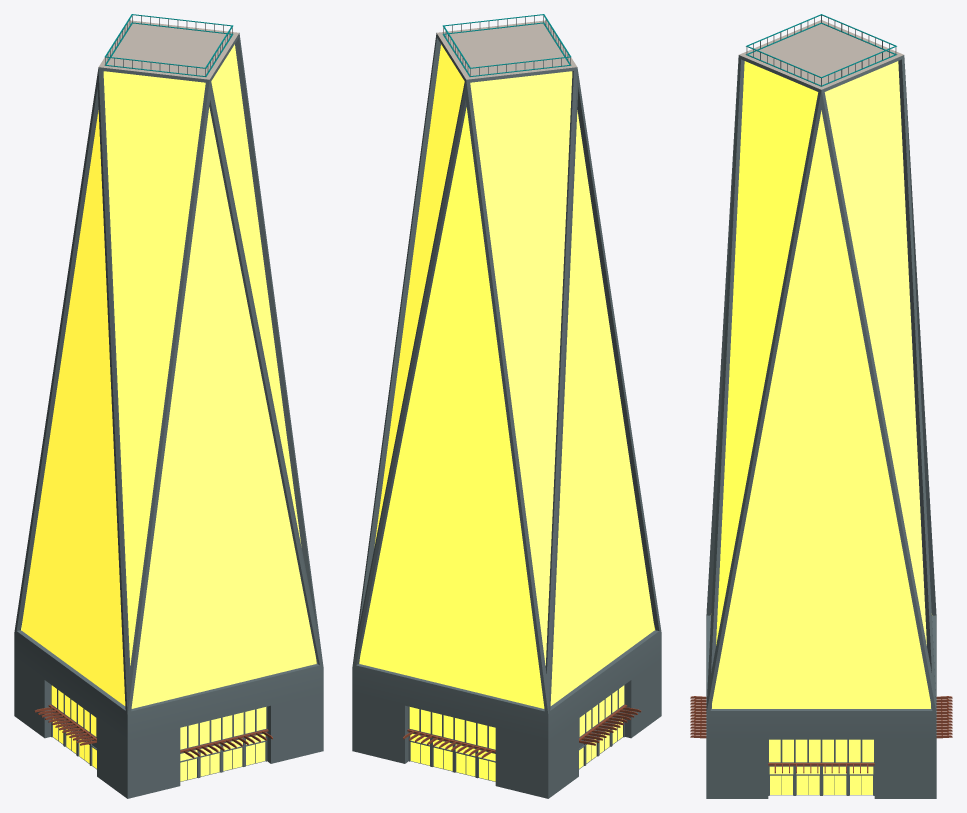
Rendered from SM_skyscraper_04.glb.
3 views of the same model, side by side, from view 1: azimuth 30°, elevation 25°; view 2: azimuth 150°, elevation 25°; view 3: azimuth 270°, elevation 25° (orthographic).
Visible parts, largest first — view 1: SM_skyscraper_04; view 2: SM_skyscraper_04; view 3: SM_skyscraper_04.
Part boxes in pixels (x1,y1,x2,y2): SM_skyscraper_04: (14,14,323,798); SM_skyscraper_04: (352,14,661,798); SM_skyscraper_04: (690,14,952,798).
Size of the model in its own units: 15.4 by 45.68 by 15.4.
2 materials, 1 textured.
